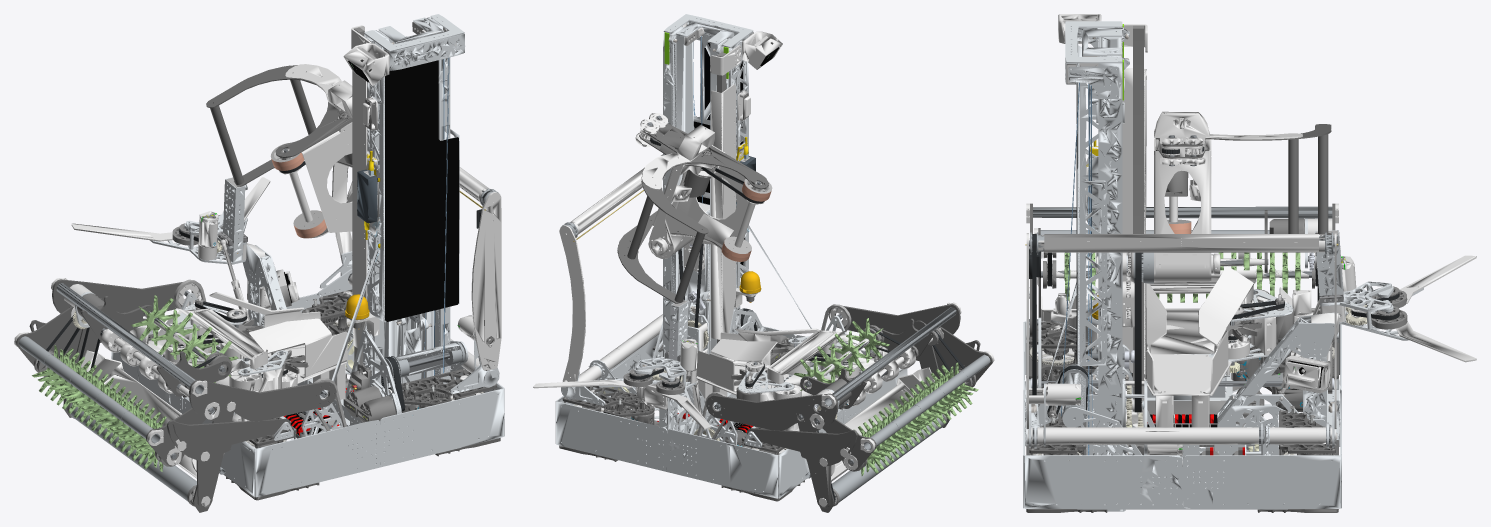
File: sublime-1678.glb
3 views of the same model, side by side, from view 1: azimuth 30°, elevation 25°; view 2: azimuth 150°, elevation 25°; view 3: azimuth 270°, elevation 25° (orthographic). The views are drawn at different scales.
Parts seen in each view (by area): view 1: frame, intake, elevator-stage, effector, algae-intake, climber; view 2: frame, intake, effector, algae-intake, climber, elevator-stage; view 3: frame, algae-intake, effector, intake, climber, elevator-stage, carriage.
Boxes of the visible parts, <box> form: frame: <box>111,14,504,500</box>; intake: <box>14,278,346,512</box>; elevator-stage: <box>351,25,459,393</box>; effector: <box>206,64,352,238</box>; algae-intake: <box>317,162,501,394</box>; climber: <box>71,177,299,339</box>; frame: <box>555,14,907,501</box>; intake: <box>693,302,994,512</box>; effector: <box>617,113,772,303</box>; algae-intake: <box>559,154,662,419</box>; climber: <box>533,300,752,448</box>; elevator-stage: <box>676,35,748,353</box>; frame: <box>1023,14,1341,512</box>; algae-intake: <box>1025,232,1338,455</box>; effector: <box>1128,111,1331,283</box>; intake: <box>1026,203,1338,424</box>; climber: <box>1236,230,1476,427</box>; elevator-stage: <box>1076,24,1147,365</box>; carriage: <box>1096,252,1134,327</box>.
Bounding box in the file's own units: 0.9457 × 1.04 × 0.9576.
